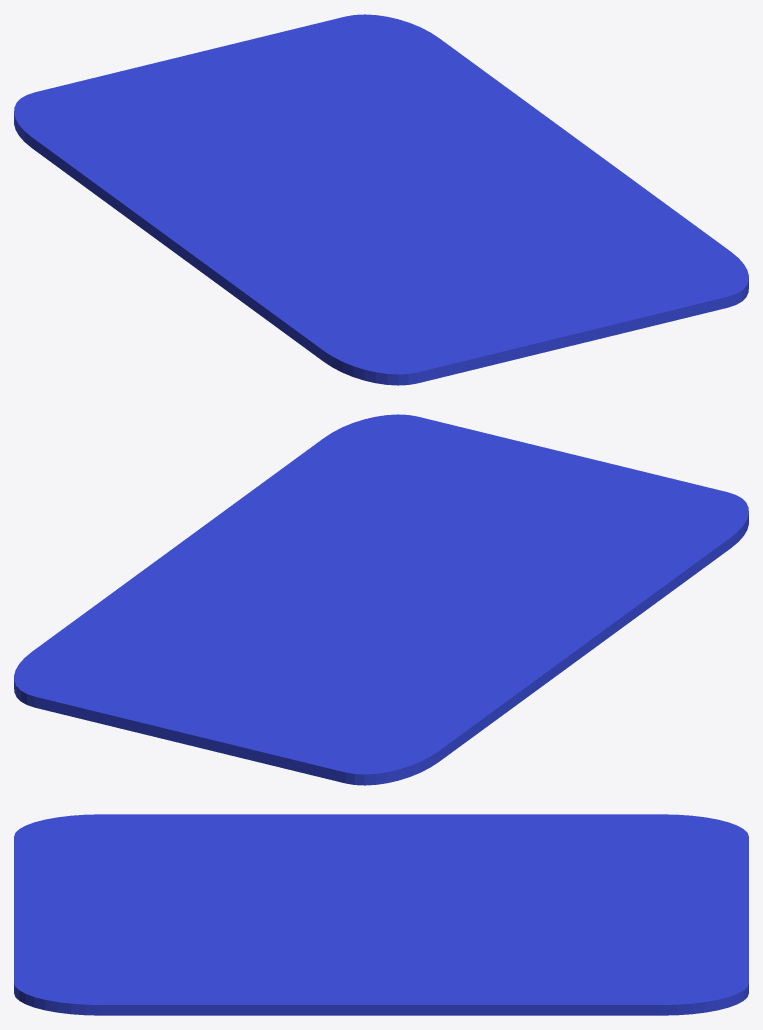
3 renders of one model, top to bottom at view 1: azimuth 30°, elevation 25°; view 2: azimuth 150°, elevation 25°; view 3: azimuth 270°, elevation 25°, orthographic. The views are drawn at different scales.
Visible parts, largest first — view 1: Cube; view 2: Cube; view 3: Cube.
Part boxes in pixels (bbox=[...]): Cube: bbox=[14, 14, 748, 385]; Cube: bbox=[14, 414, 748, 785]; Cube: bbox=[14, 814, 748, 1015].
Size of the model in its own units: 142 by 3.68 by 232.
